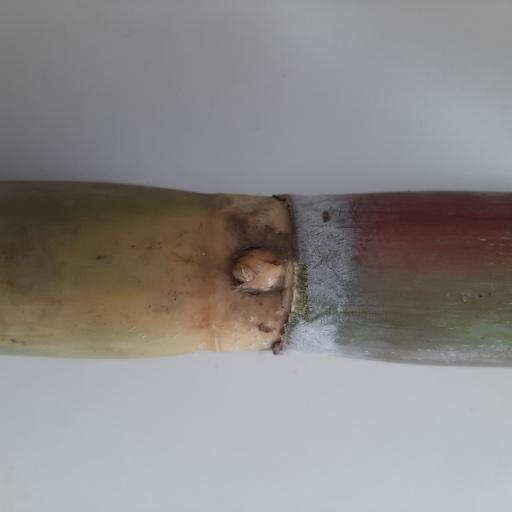Bud: (231, 245, 287, 295)
